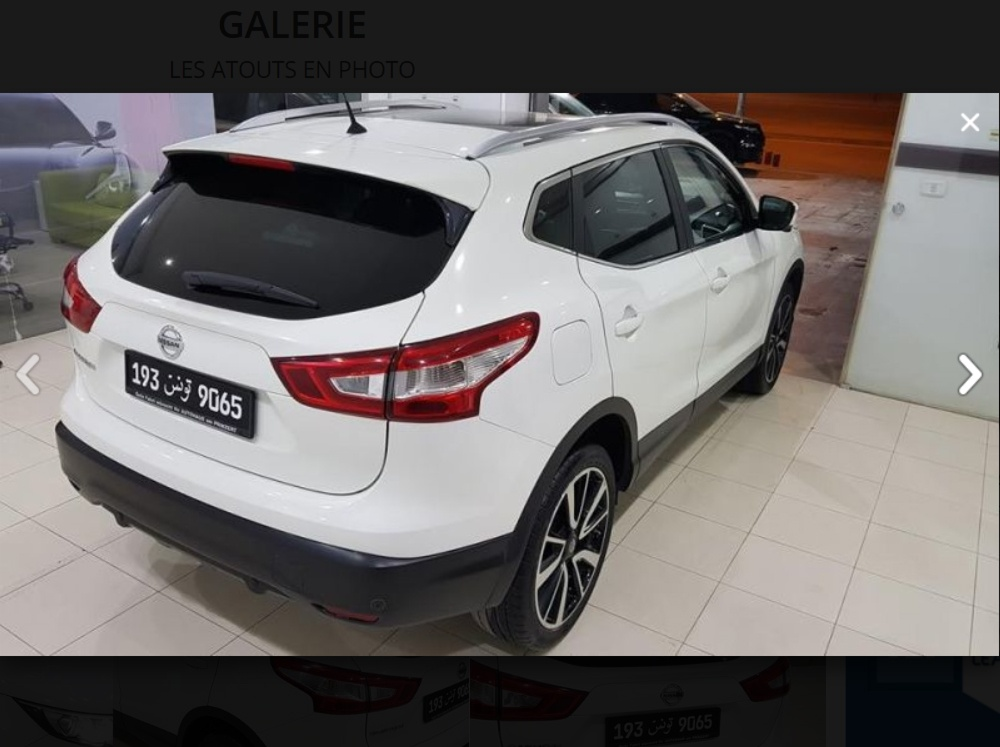LP: (121, 349, 257, 435)
